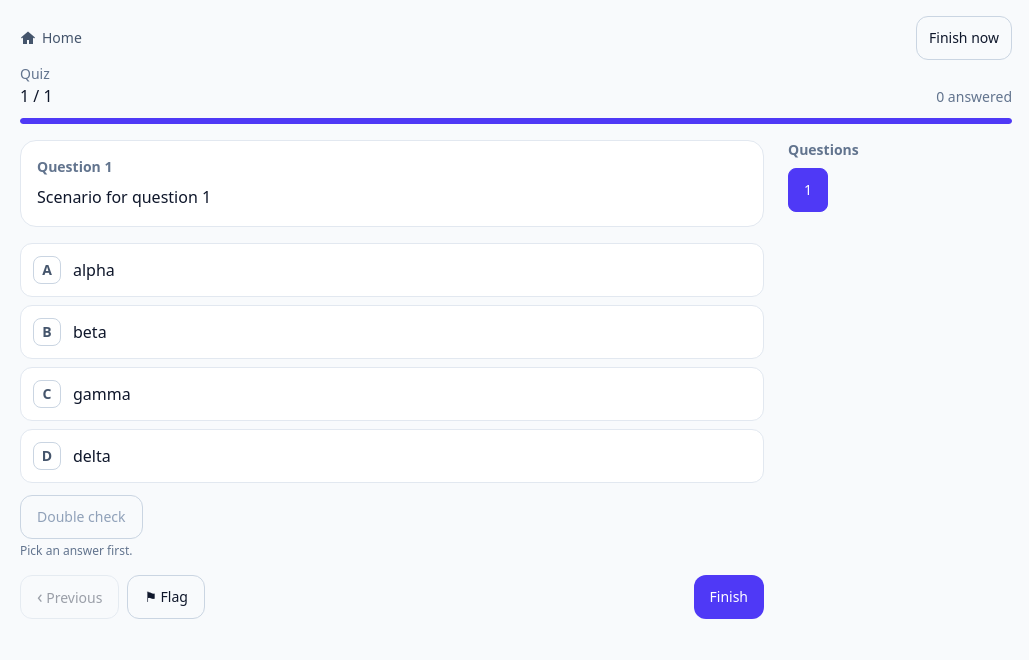
Test: Double check › shows a plain error and leaves the answer unlocked when the check fails
Click the radio button with aria-label "Option A": (94, 270) [20,243,764,297]
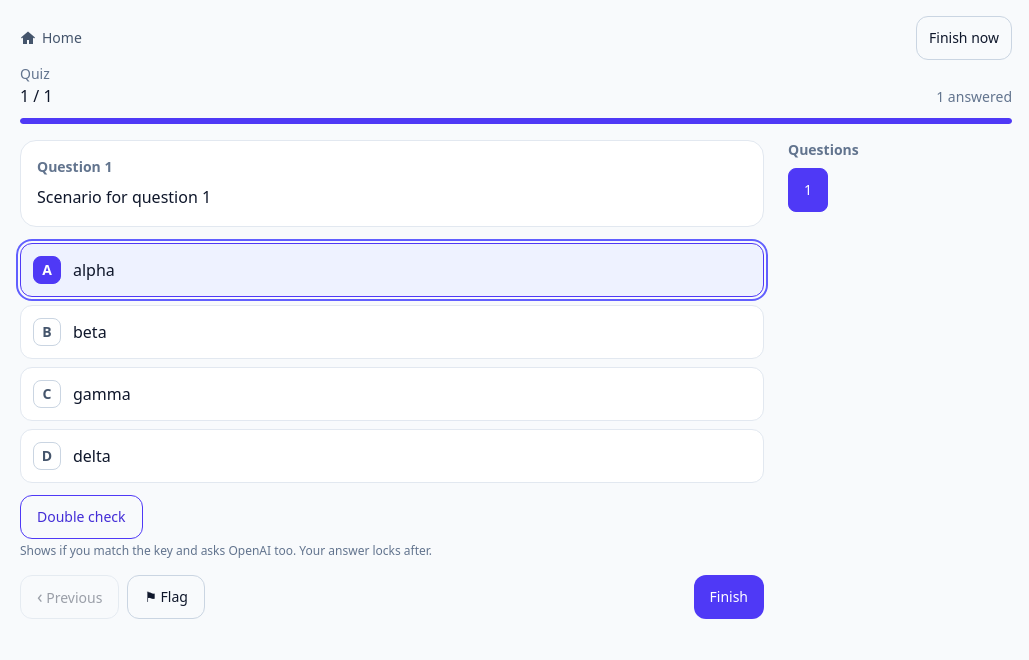
Click the button "Double check": (81, 517) [20,495,143,539]
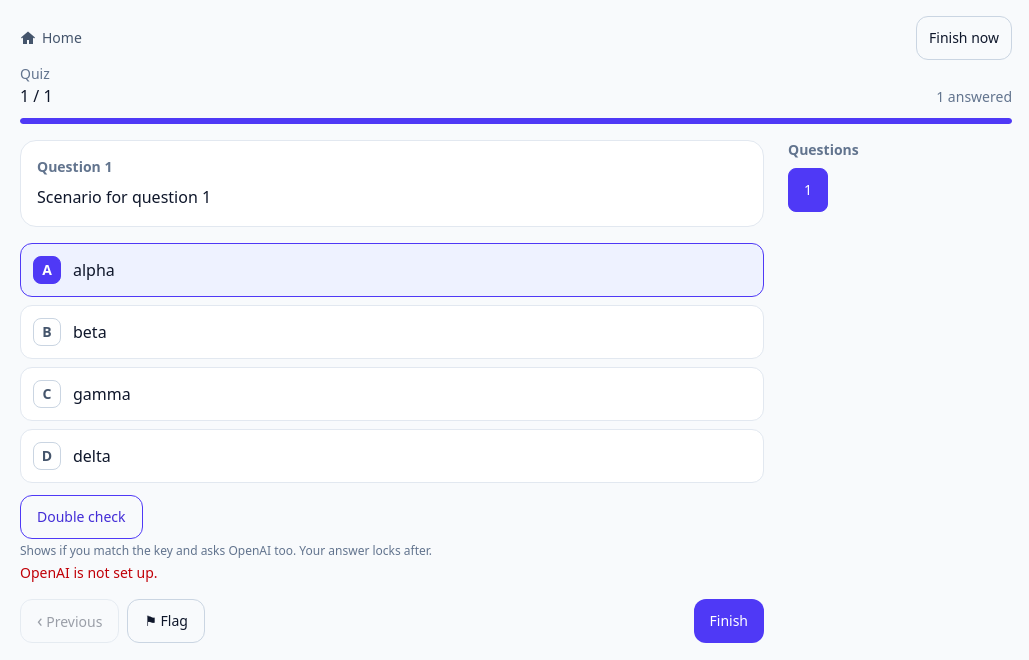
Expected: the radio button with aria-label "Option B" is enabled, [20,305,764,359]
Expected: the message reads "OpenAI is not set up.", [20,563,158,582]
